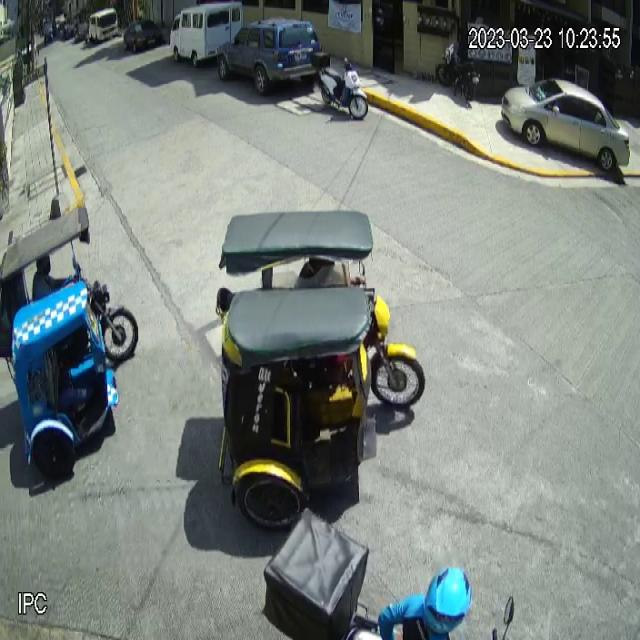Car: (501, 78, 630, 171), (216, 16, 323, 96)
Motorcycle: (312, 54, 368, 120)
Tricycle: (212, 204, 426, 534), (0, 205, 139, 481)
Van: (169, 0, 242, 69)
